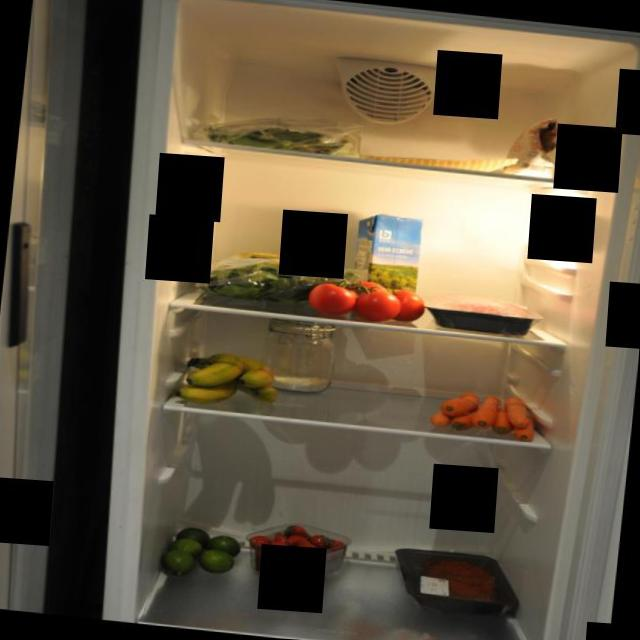Carne vacuno: (386, 544, 524, 620), (420, 288, 547, 338)
Leche: (348, 208, 424, 311)
Plátano: (174, 346, 281, 412)
Tomate: (304, 272, 432, 331)
Zanahoria: (425, 386, 545, 442)
flour: (260, 312, 340, 400), (497, 107, 584, 182)
green_beans: (202, 107, 366, 159)
spinach: (192, 244, 348, 312)
strawberries: (242, 517, 352, 588)
